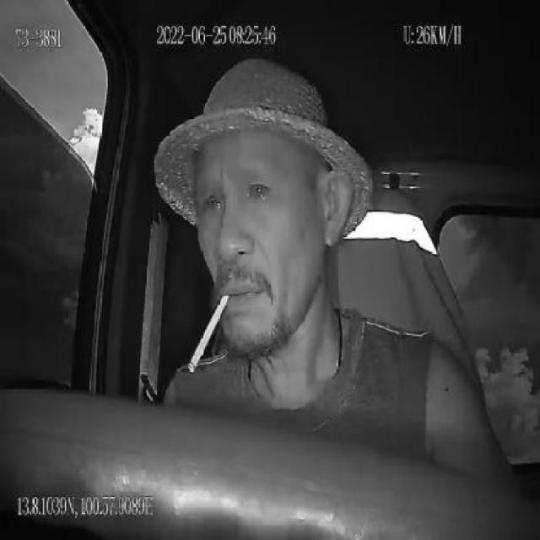smoking: (188, 295, 229, 376)
